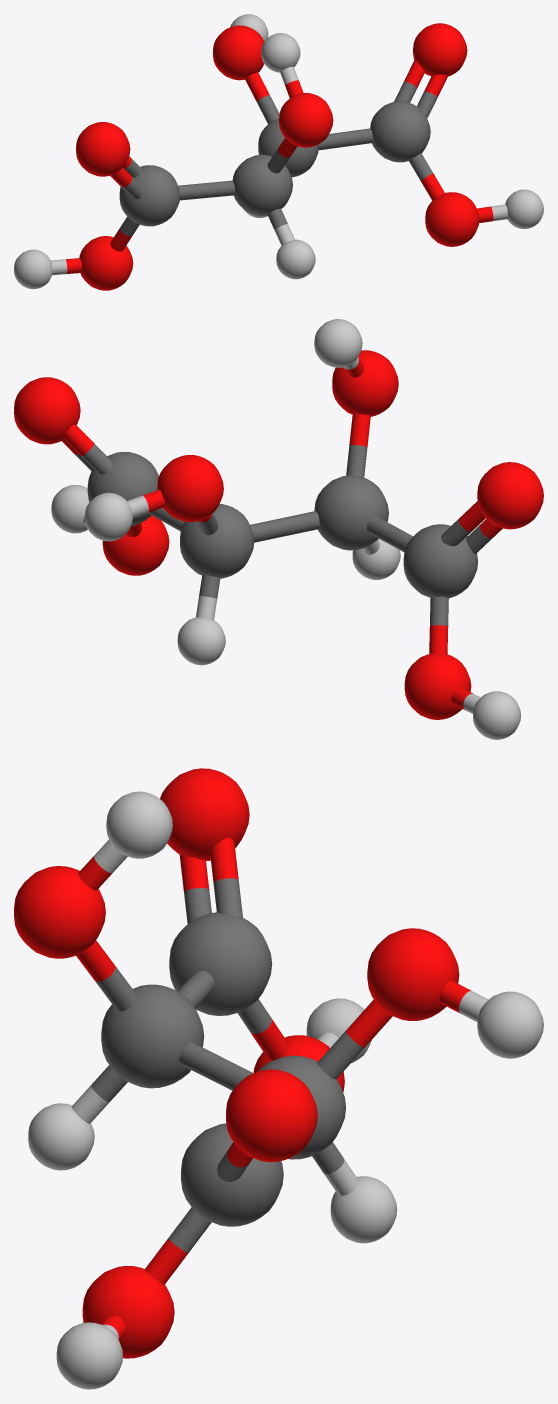
Rendered from sgm.glb.
The picture shows the model from 3 angles, top to bottom: view 1: azimuth 30°, elevation 25°; view 2: azimuth 150°, elevation 25°; view 3: azimuth 270°, elevation 25°; orthographic projection. The views are drawn at different scales.
Parts seen in each view (by area): view 1: Object_15, Object_21, Object_17, Object_25, Object_33, Object_27, Object_23, Object_31, Object_29, Object_19, Object_13, Object_5 (+11 smaller); view 2: Object_21, Object_17, Object_19, Object_25, Object_23, Object_31, Object_29, Object_33, Object_15, Object_27, Object_9, Object_5 (+12 smaller); view 3: Object_21, Object_17, Object_23, Object_33, Object_31, Object_15, Object_25, Object_27, Object_3, Object_7, Object_9, Object_13 (+19 smaller).
Boxes of the visible parts, x1=… form: Object_15: x1=370, y1=101, x2=430, y2=162; Object_21: x1=232, y1=154, x2=292, y2=215; Object_17: x1=119, y1=165, x2=179, y2=226; Object_25: x1=76, y1=122, x2=130, y2=176; Object_33: x1=279, y1=93, x2=333, y2=147; Object_27: x1=425, y1=192, x2=478, y2=246; Object_23: x1=413, y1=23, x2=467, y2=76; Object_31: x1=213, y1=25, x2=264, y2=80; Object_29: x1=79, y1=236, x2=133, y2=290; Object_19: x1=258, y1=118, x2=318, y2=177; Object_13: x1=276, y1=239, x2=315, y2=279; Object_5: x1=14, y1=249, x2=52, y2=289; Object_21: x1=314, y1=475, x2=388, y2=550; Object_17: x1=403, y1=524, x2=477, y2=598; Object_19: x1=180, y1=504, x2=254, y2=578; Object_25: x1=477, y1=462, x2=543, y2=529; Object_23: x1=14, y1=377, x2=80, y2=444; Object_31: x1=157, y1=455, x2=223, y2=521; Object_29: x1=404, y1=653, x2=471, y2=719; Object_33: x1=332, y1=350, x2=398, y2=416; Object_15: x1=87, y1=452, x2=158, y2=526; Object_27: x1=102, y1=515, x2=169, y2=575; Object_9: x1=314, y1=319, x2=362, y2=367; Object_5: x1=473, y1=691, x2=521, y2=739; Object_21: x1=101, y1=984, x2=204, y2=1088; Object_17: x1=169, y1=912, x2=272, y2=1015; Object_23: x1=226, y1=1069, x2=317, y2=1162; Object_33: x1=14, y1=866, x2=105, y2=958; Object_31: x1=367, y1=928, x2=459, y2=1020; Object_15: x1=181, y1=1123, x2=283, y2=1226; Object_25: x1=160, y1=768, x2=249, y2=860; Object_27: x1=82, y1=1266, x2=174, y2=1358; Object_3: x1=56, y1=1322, x2=122, y2=1389; Object_7: x1=477, y1=991, x2=543, y2=1058; Object_9: x1=106, y1=791, x2=172, y2=858; Object_13: x1=28, y1=1103, x2=94, y2=1170.
Bounding box in the file's own units: 6.93 × 3.76 × 4.16.
